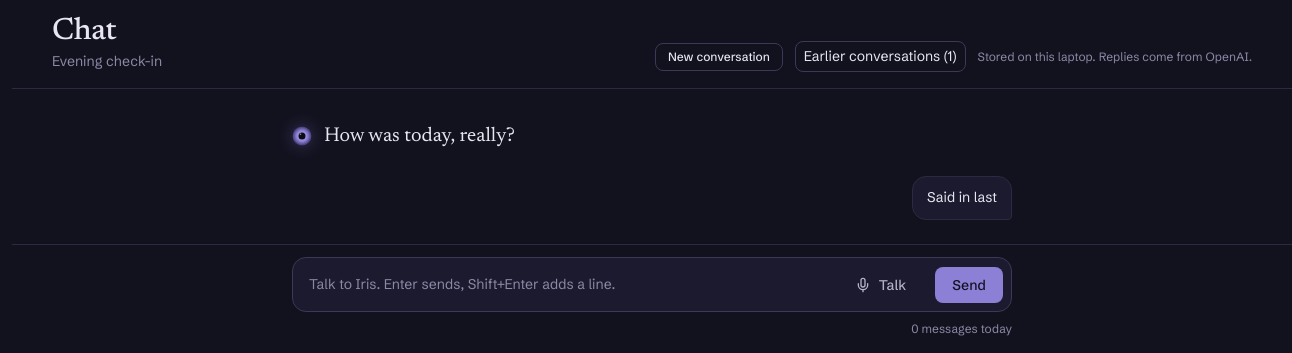
it: starts a new conversation only on the click
The image size is (1292, 353).
Expected: the text "Said in last" is shown, [912,176,1012,220]
Click the button "New conversation".
click(719, 57)  # box [655,43,783,71]
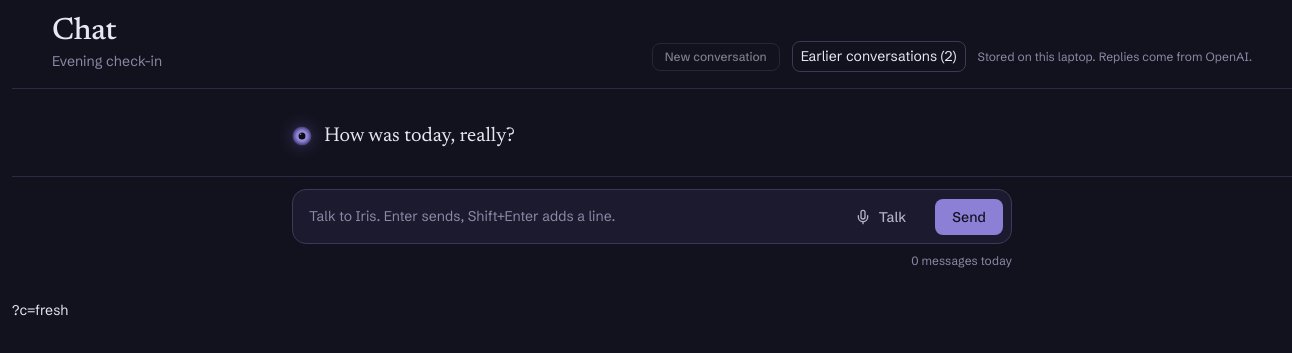
Now the text with test id "where" reads "?c=fresh", box [12,301,68,319]
